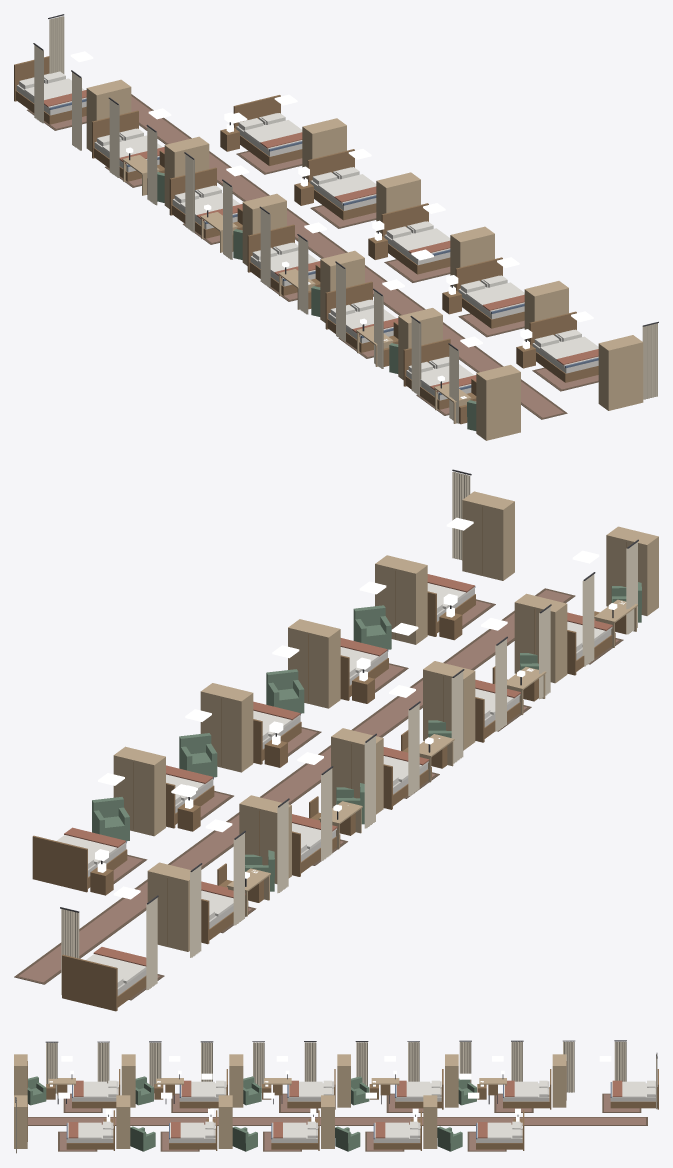
The model's file is fine-s3.glb.
3 views of the same model, one above another, from view 1: azimuth 30°, elevation 25°; view 2: azimuth 150°, elevation 25°; view 3: azimuth 270°, elevation 25° (orthographic). The views are drawn at different scales.
Parts seen in each view (by area): view 1: soft-s3, dresser.026, dresser.032, bed-frame.025, bed-frame.026, bed-frame.023, bed-frame.024, bed-frame.022, dresser.027, dresser.024, dresser.025, dresser.023 (+11 smaller); view 2: soft-s3, dresser.026, dresser.023, dresser.024, dresser.022, dresser.025, dresser.031, dresser.027, bed-frame.027, dresser.032, bed-frame.022, dresser.030 (+16 smaller); view 3: soft-s3, dresser.022, dresser.024, dresser.025, dresser.027, dresser.030, dresser.023, dresser.028, dresser.029, dresser.026, bed-frame.022, dresser.031 (+25 smaller).
Part boxes in pixels (bbox=[...]): soft-s3: bbox=[19, 14, 658, 423]; dresser.026: bbox=[598, 335, 643, 410]; dresser.032: bbox=[476, 365, 520, 440]; bed-frame.025: bbox=[455, 257, 524, 328]; bed-frame.026: bbox=[529, 311, 598, 382]; bed-frame.023: bbox=[307, 149, 376, 220]; bed-frame.024: bbox=[381, 203, 450, 274]; bed-frame.022: bbox=[233, 95, 302, 165]; dresser.027: bbox=[86, 79, 131, 151]; dresser.024: bbox=[450, 226, 494, 287]; dresser.025: bbox=[524, 281, 568, 341]; dresser.023: bbox=[376, 172, 420, 233]; soft-s3: bbox=[14, 469, 638, 1000]; dresser.026: bbox=[462, 491, 514, 580]; dresser.023: bbox=[200, 683, 253, 772]; dresser.024: bbox=[288, 619, 340, 708]; dresser.022: bbox=[113, 746, 165, 836]; dresser.025: bbox=[375, 555, 427, 644]; dresser.031: bbox=[514, 593, 567, 683]; dresser.027: bbox=[147, 862, 190, 951]; bed-frame.027: bbox=[62, 954, 146, 1011]; dresser.032: bbox=[606, 526, 658, 615]; bed-frame.022: bbox=[32, 835, 127, 892]; dresser.030: bbox=[423, 661, 475, 750]; soft-s3: bbox=[15, 1040, 657, 1153]; dresser.022: bbox=[423, 1095, 437, 1148]; dresser.024: bbox=[218, 1095, 232, 1148]; dresser.025: bbox=[116, 1095, 130, 1148]; dresser.027: bbox=[552, 1054, 566, 1107]; dresser.030: bbox=[229, 1054, 243, 1107]; dresser.023: bbox=[321, 1095, 334, 1148]; dresser.028: bbox=[445, 1054, 458, 1107]; dresser.029: bbox=[337, 1054, 350, 1107]; dresser.026: bbox=[14, 1095, 27, 1148]; bed-frame.022: bbox=[476, 1110, 524, 1150]; dresser.031: bbox=[121, 1054, 135, 1107].
Bounding box in the file's own units: 6.35 × 2.51 × 27.99.
